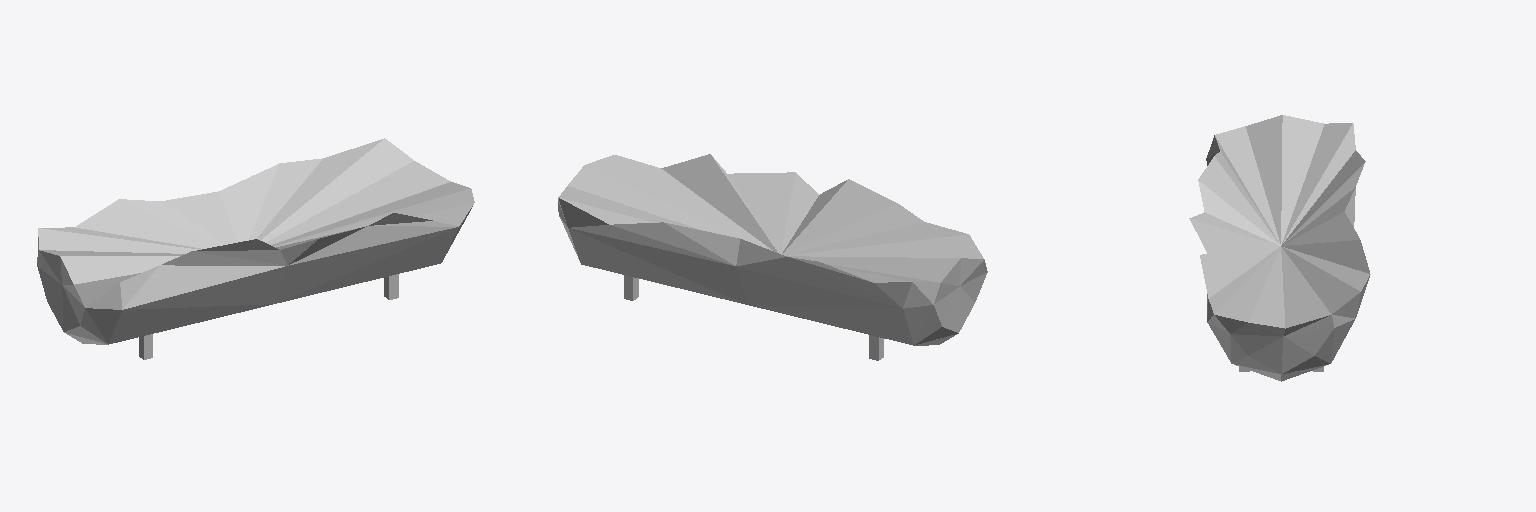
Rendered from propane_dest.obj.
3 views of the same model, side by side, from view 1: azimuth 30°, elevation 25°; view 2: azimuth 150°, elevation 25°; view 3: azimuth 270°, elevation 25° (orthographic).
Parts seen in each view (by area): view 1: propane_dest; view 2: propane_dest; view 3: propane_dest.
Part boxes in pixels (bbox=[...]): propane_dest: bbox=[37, 138, 474, 359]; propane_dest: bbox=[558, 154, 987, 360]; propane_dest: bbox=[1189, 115, 1370, 381].
Size of the model in its own units: 205 by 55.91 by 80.84.